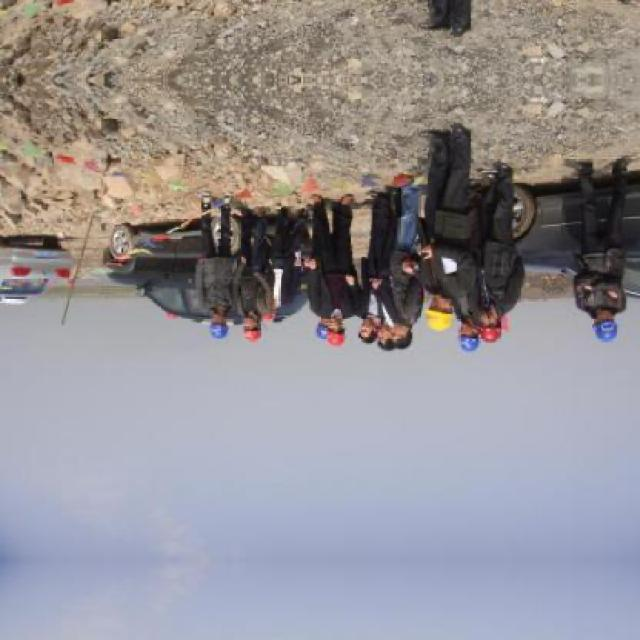con casco: (447, 299, 505, 378), (573, 278, 640, 344), (175, 290, 232, 344), (408, 286, 466, 334), (374, 310, 416, 364), (308, 312, 343, 351), (228, 297, 255, 328)
